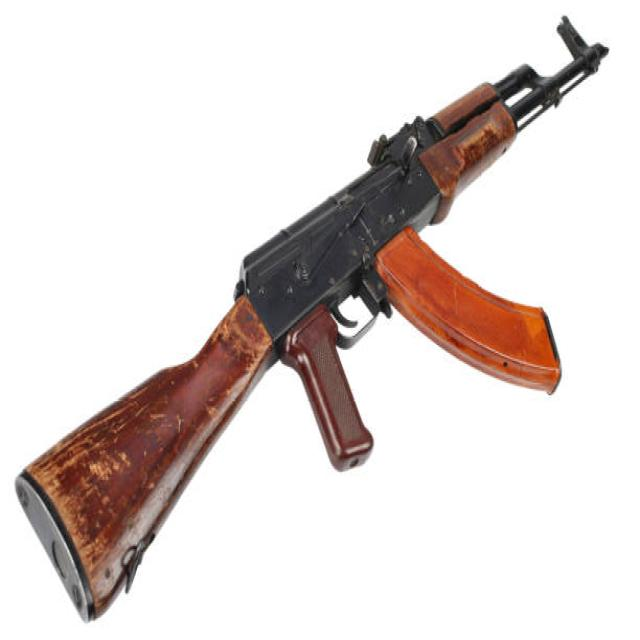rifle: (7, 10, 616, 625)
